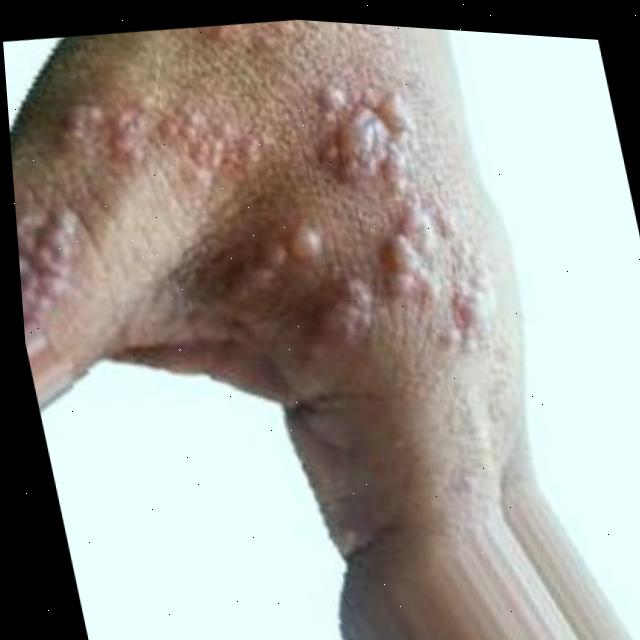Shingles: (0, 0, 511, 431)
